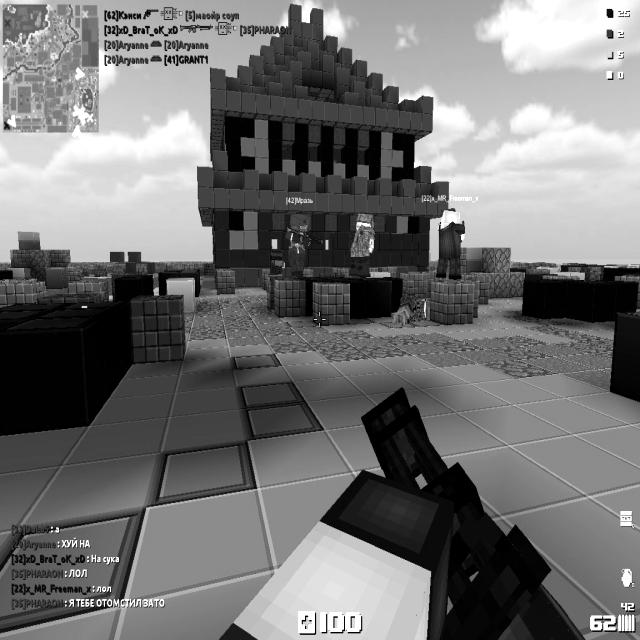Head: (288, 212, 310, 235), (440, 209, 463, 230), (357, 214, 374, 230), (270, 247, 284, 261)
Player: (285, 211, 321, 278), (435, 207, 466, 284), (349, 213, 379, 278), (266, 244, 285, 274)
